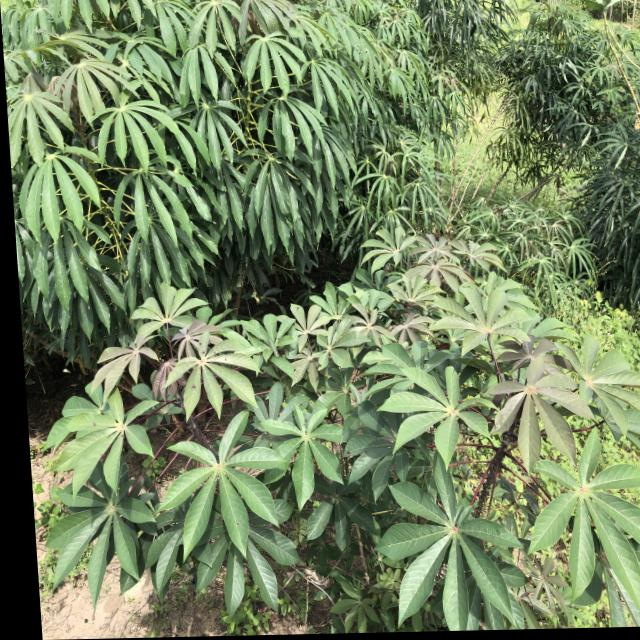Mosca: (263, 430, 281, 453), (208, 531, 225, 547), (214, 353, 233, 367), (284, 364, 300, 378), (191, 378, 204, 394), (197, 341, 208, 354)
